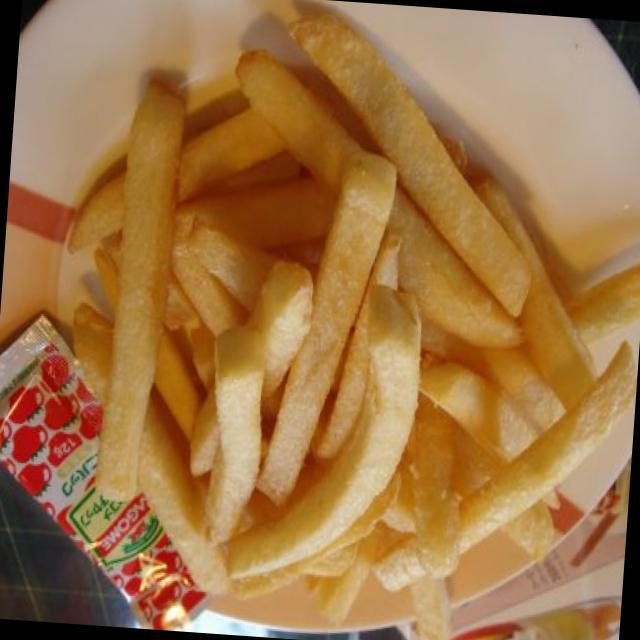French Fries: (93, 54, 617, 618)
